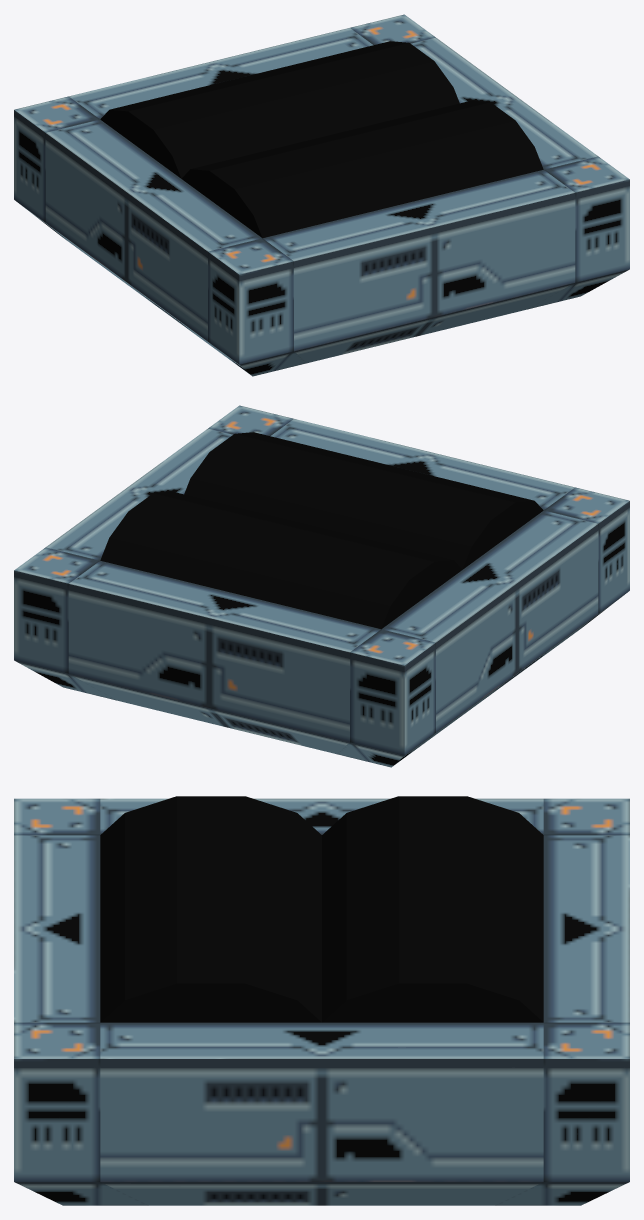
Rendered from BouncyPlatform_1x1_Metal.fbx.
3 renders of one model, top to bottom at view 1: azimuth 30°, elevation 25°; view 2: azimuth 150°, elevation 25°; view 3: azimuth 270°, elevation 25°, orthographic. The views are drawn at different scales.
Visible parts, largest first — view 1: BouncyPlatform_1x1_Metal; view 2: BouncyPlatform_1x1_Metal; view 3: BouncyPlatform_1x1_Metal.
Boxes of the visible parts, x1,y1,x2,y2 form: BouncyPlatform_1x1_Metal: (14, 14, 629, 376); BouncyPlatform_1x1_Metal: (14, 405, 629, 767); BouncyPlatform_1x1_Metal: (14, 796, 629, 1205).
Bounding box in the file's own units: 25 × 9.25 × 25.
